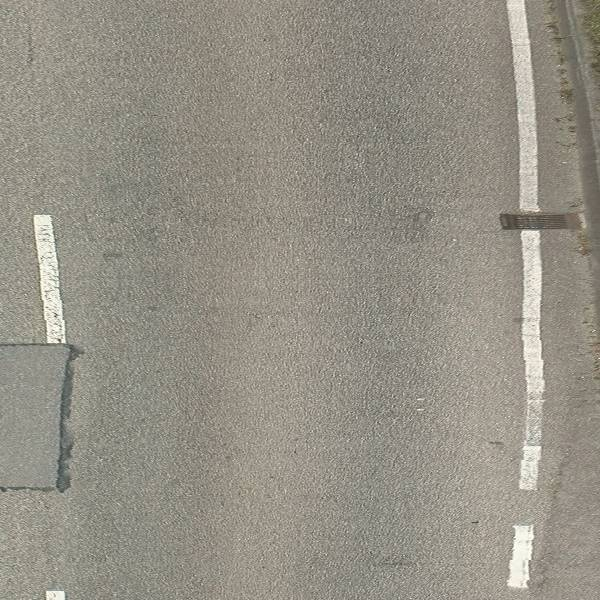road_damage: (1, 336, 89, 503)
